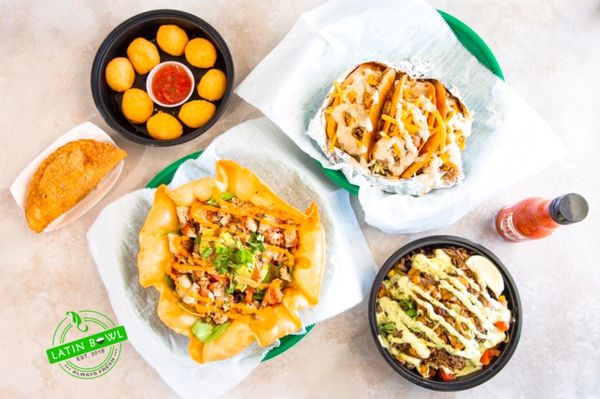sushi: (367, 235, 521, 391), (319, 60, 472, 197), (89, 9, 236, 146)
